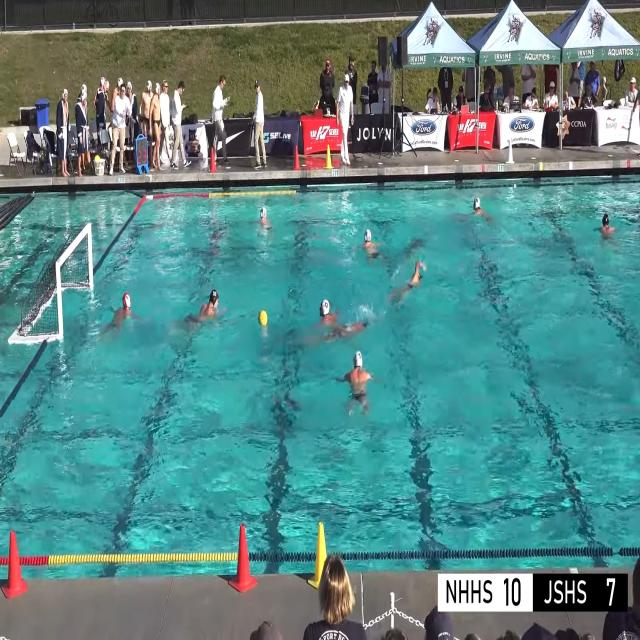ball: (258, 310, 268, 326), (94, 155, 100, 160)
